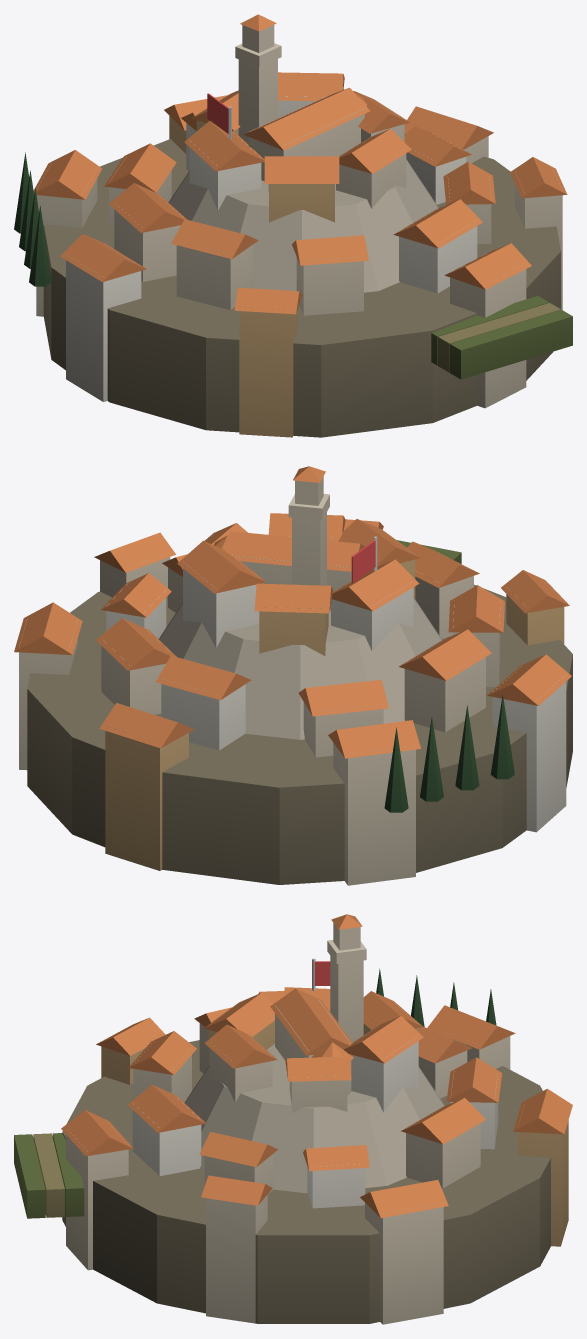
Rendered from village_med_a.glb.
3 views of the same model, one above another, from view 1: azimuth 30°, elevation 25°; view 2: azimuth 150°, elevation 25°; view 3: azimuth 270°, elevation 25° (orthographic). The views are drawn at different scales.
Parts seen in each view (by area): view 1: village_med_a; view 2: village_med_a; view 3: village_med_a.
Boxes of the visible parts, left/top/right/bottom form: village_med_a: left=14, top=14, right=572, bottom=437; village_med_a: left=14, top=466, right=572, bottom=885; village_med_a: left=14, top=914, right=572, bottom=1324.
Bounding box in the file's own units: 1.94 × 1.23 × 2.11.
